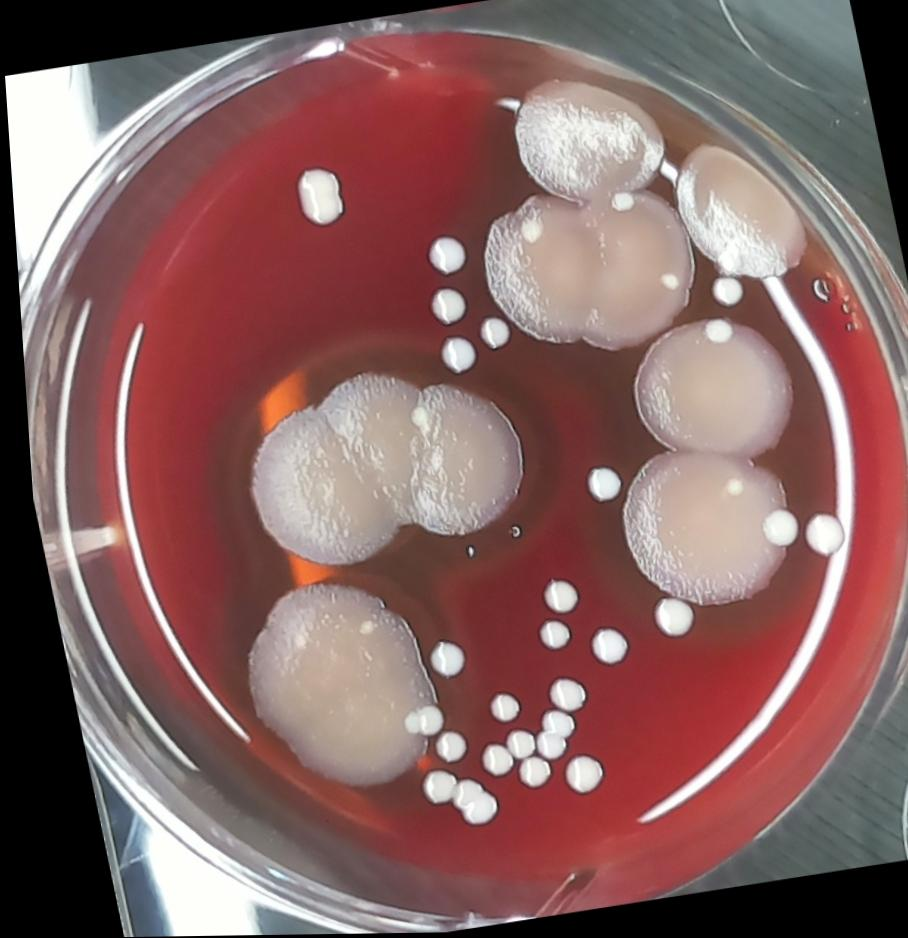staphylo-: (406, 760, 491, 837), (286, 160, 350, 233), (635, 588, 689, 644), (789, 507, 845, 561), (516, 706, 570, 761), (545, 750, 604, 800), (573, 619, 627, 673), (415, 230, 471, 279), (570, 458, 623, 508), (529, 671, 583, 719), (748, 504, 799, 553), (419, 281, 468, 330), (425, 332, 478, 377), (383, 700, 438, 742), (527, 575, 576, 620), (414, 638, 464, 682), (500, 754, 548, 796), (470, 310, 514, 353), (486, 723, 530, 764), (472, 687, 514, 728), (421, 727, 462, 768), (702, 272, 744, 312), (525, 615, 568, 654), (695, 313, 734, 351), (468, 742, 506, 780), (511, 211, 548, 250), (648, 266, 683, 298), (601, 188, 638, 218), (714, 475, 746, 505)
